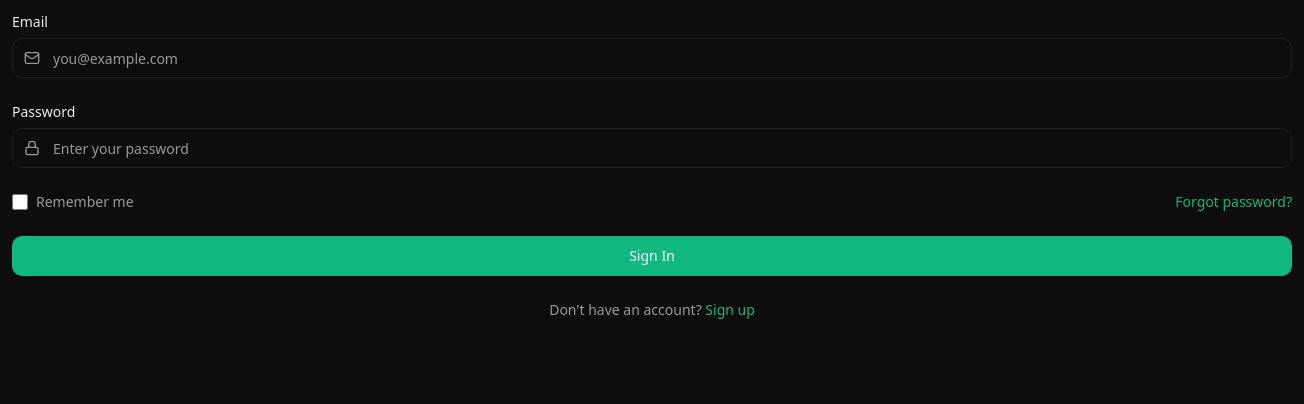
LoginForm › error handling › displays generic error for non-Error throws
The image size is (1304, 404).
In the field labelled "Email": x=652, y=58 [12,38,1292,78], type "user@example.com"
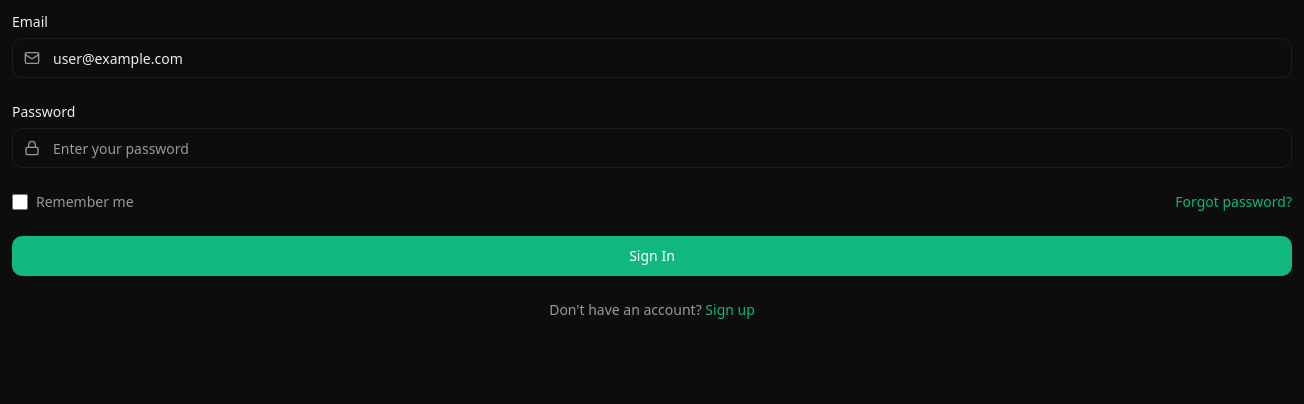
In the password field labelled "Password": x=652, y=148 [12,128,1292,168], type "password123"
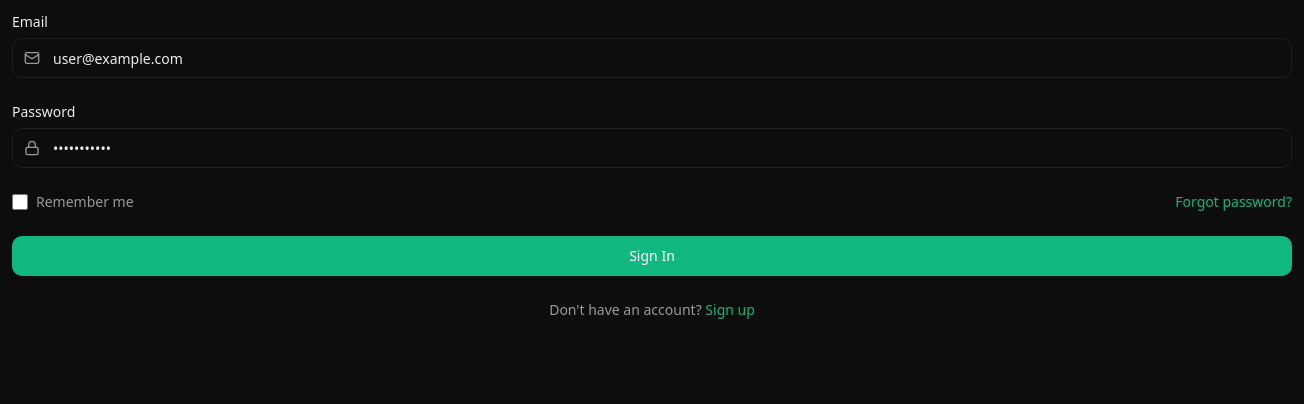
Click the button "Sign In": x=652, y=256 [12,236,1292,276]
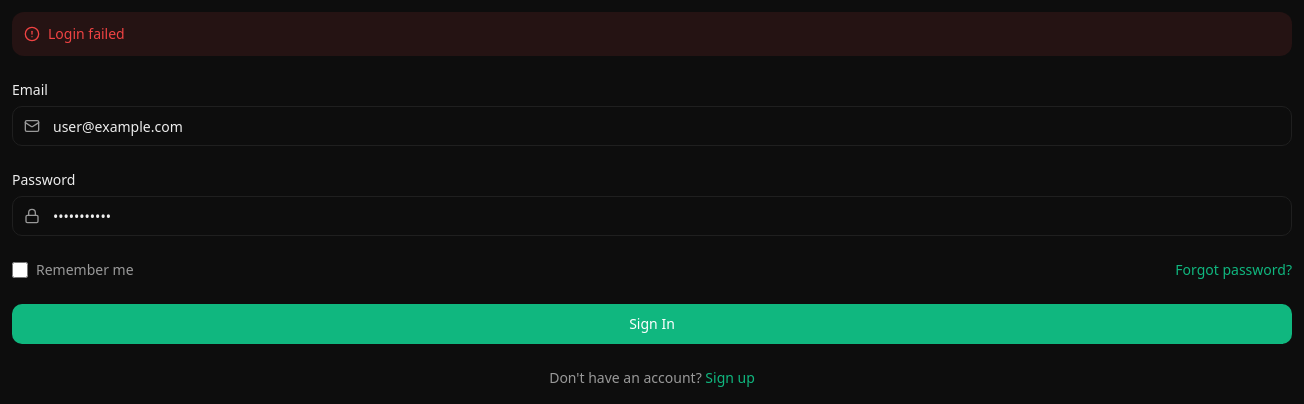
Expected: the text "Login failed" is shown, [12,12,1292,56]
